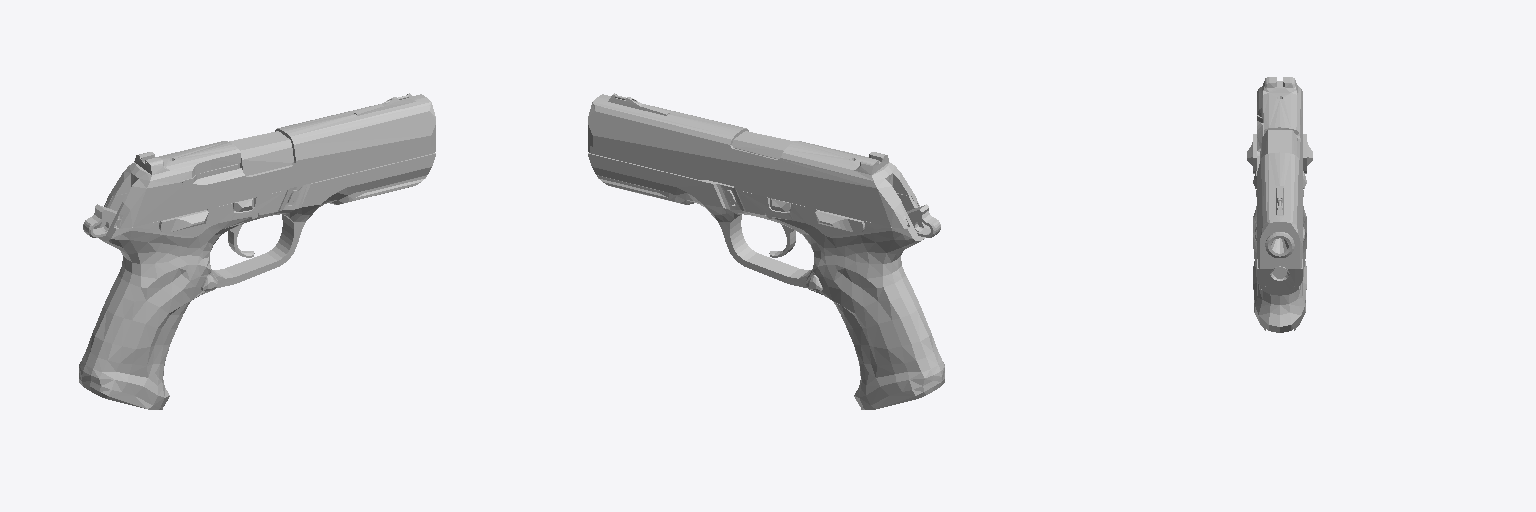
Rendered from classic.obj.
The picture shows the model from 3 angles: view 1: azimuth 30°, elevation 25°; view 2: azimuth 150°, elevation 25°; view 3: azimuth 270°, elevation 25°; orthographic projection.
Parts seen in each view (by area): view 1: GN_BasePistol_S0_Skelmesh.001; view 2: GN_BasePistol_S0_Skelmesh.001; view 3: GN_BasePistol_S0_Skelmesh.001.
Boxes of the visible parts, <box> form: GN_BasePistol_S0_Skelmesh.001: <box>79,93,435,409</box>; GN_BasePistol_S0_Skelmesh.001: <box>588,93,944,409</box>; GN_BasePistol_S0_Skelmesh.001: <box>1247,77,1312,332</box>.
Bounding box in the file's own units: 30.92 × 21.13 × 5.14.